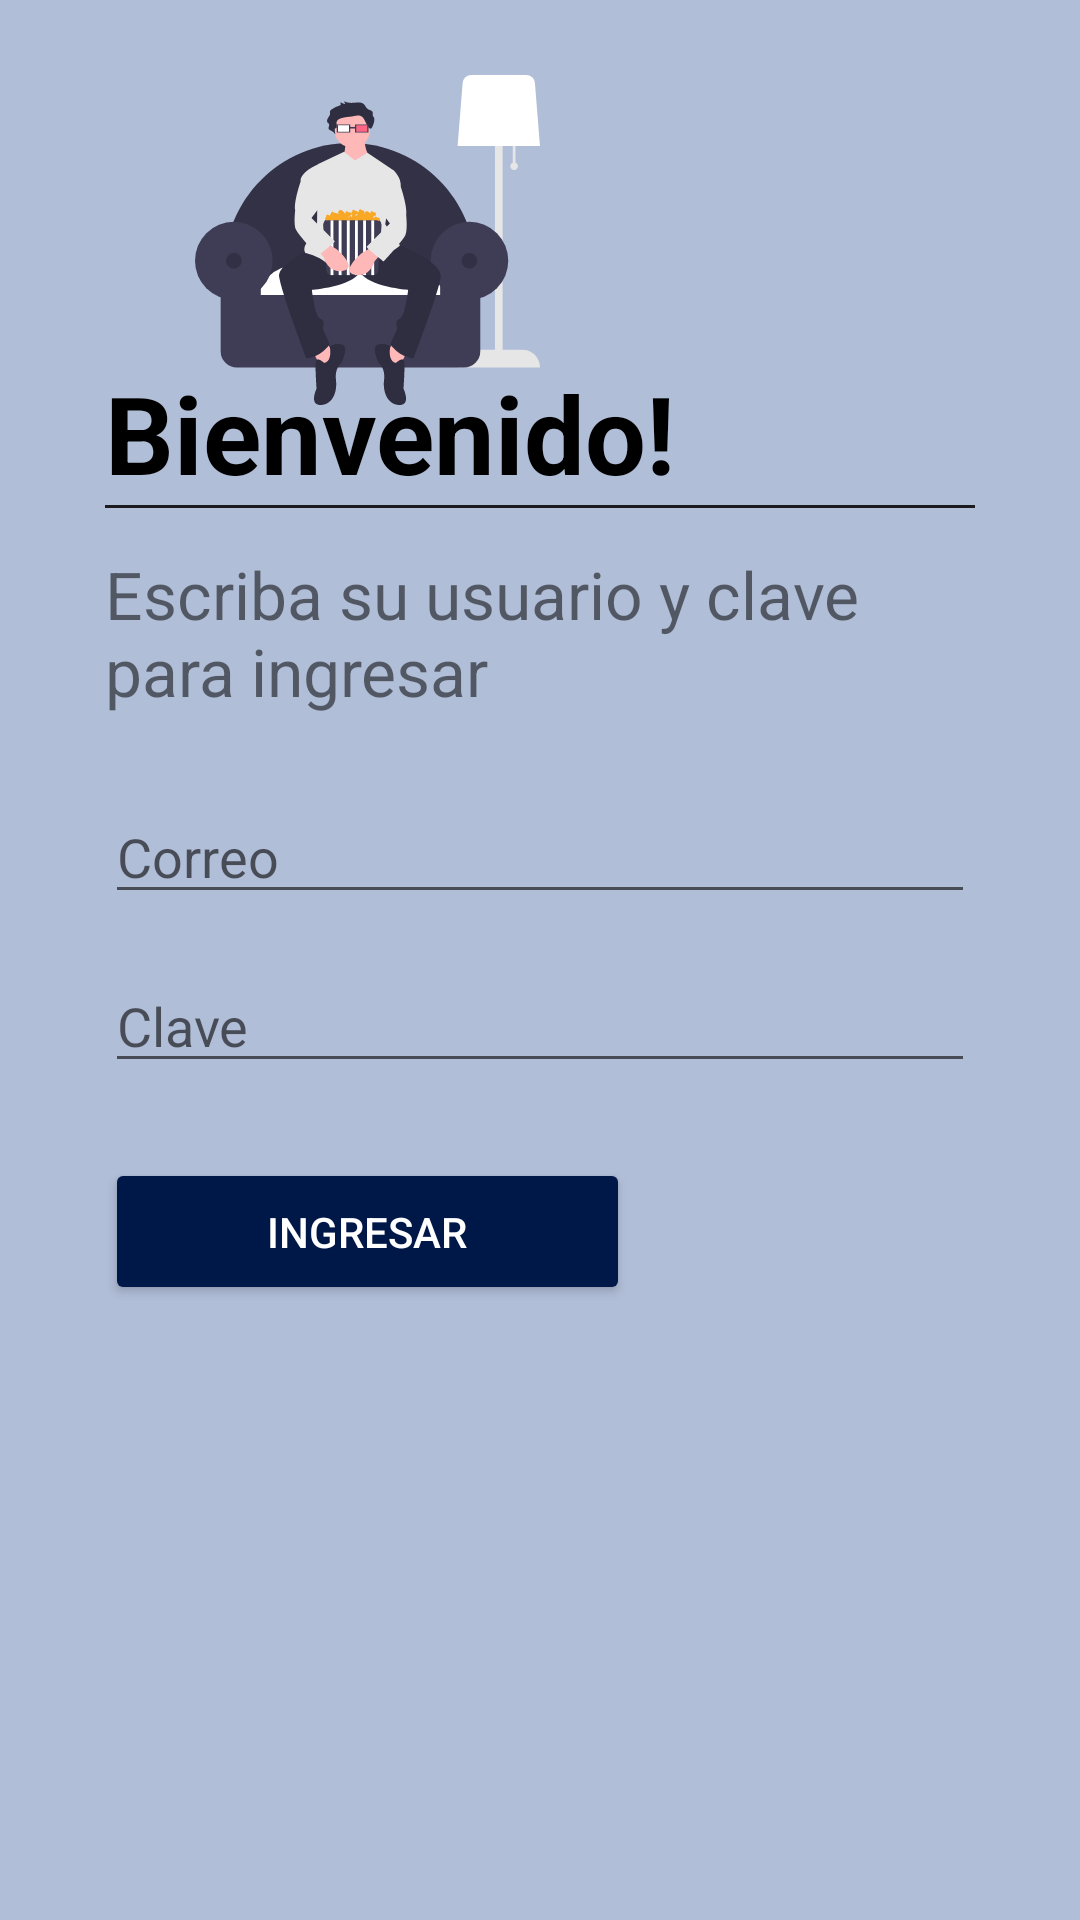

Where icons sit on this 1080 × 1920 app screen, as (x1, y1, x2, y2):
undraw home cinema yl: (195, 75, 540, 405)
